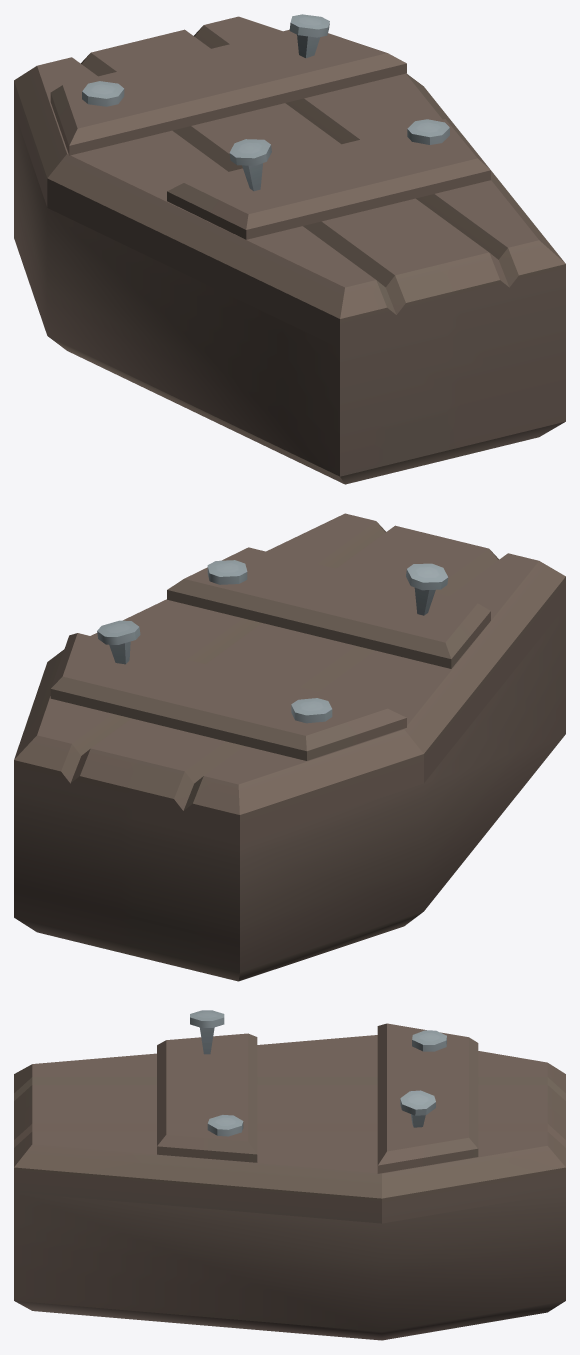
Rendered from coffin.glb.
The picture shows the model from 3 angles, top to bottom: view 1: azimuth 30°, elevation 25°; view 2: azimuth 150°, elevation 25°; view 3: azimuth 270°, elevation 25°; orthographic projection. The views are drawn at different scales.
Visible parts, largest first — view 1: coffin_lid, Cube.118; view 2: coffin_lid, Cube.118; view 3: coffin_lid, Cube.118.
Boxes of the visible parts, box(x1,y1,x2,y2) form: coffin_lid: box(14, 14, 565, 348); Cube.118: box(14, 110, 565, 484); coffin_lid: box(14, 513, 565, 844); Cube.118: box(14, 606, 565, 981); coffin_lid: box(14, 1010, 565, 1223); Cube.118: box(14, 1192, 565, 1340).
Size of the model in its own units: 2 by 1.32 by 3.
1 material, 1 textured.
